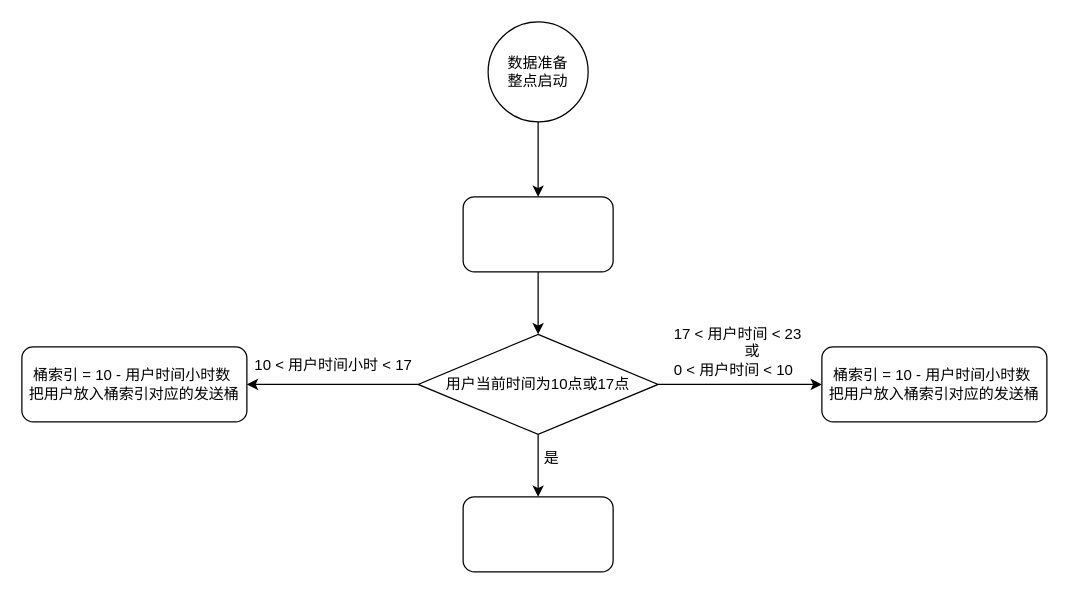
Some shapes in this 1069 by 594 pixel diagram are drawn without their labels. Here are the shapes that lost their labels. From the top down, the centre of each, then its label:
point (537, 234): 根据当前GMT时间整点值，计算用户所在时区的整点值
point (537, 534): 把该用户存入当前时刻对应的桶
